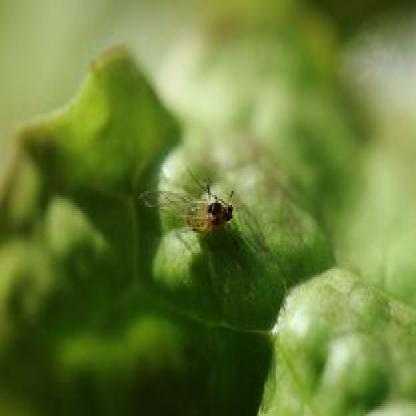aphid: (142, 156, 251, 261)
